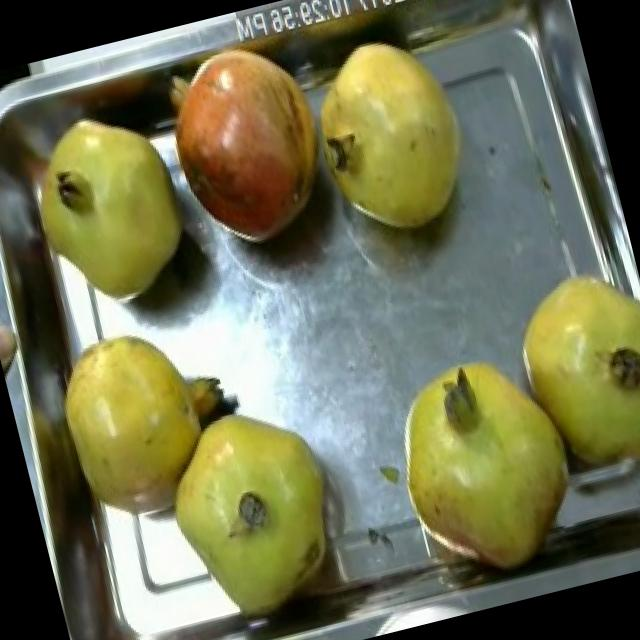fruit: (336, 321, 614, 614), (142, 376, 366, 637), (139, 16, 352, 273), (3, 83, 215, 334), (37, 302, 250, 542), (288, 15, 494, 256), (482, 245, 640, 505)
